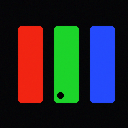0 point: (57, 92, 63, 98)
